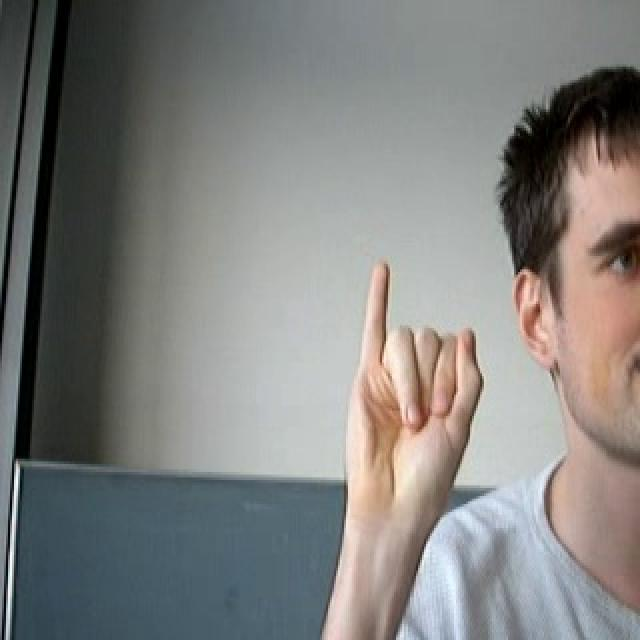I: (342, 262, 493, 537)
